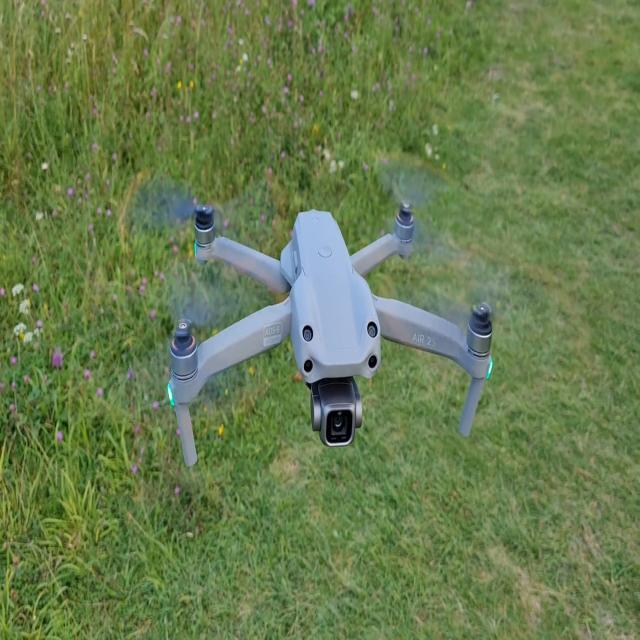drone: (166, 198, 493, 467)
